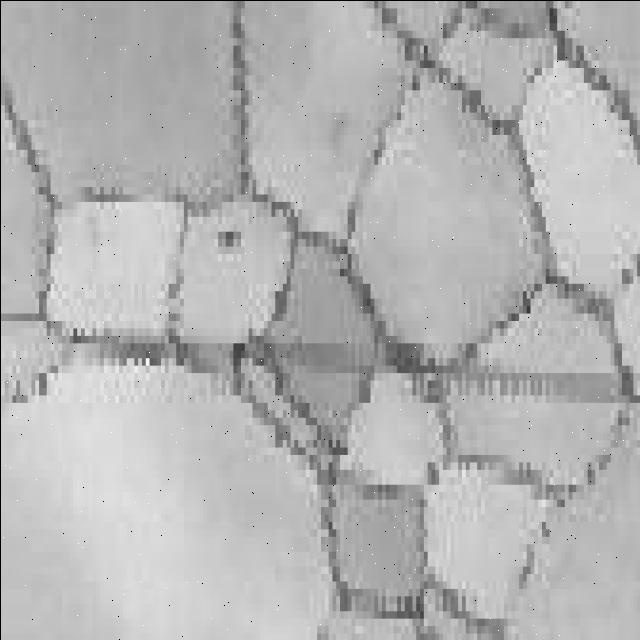good_void: (212, 223, 242, 257)
